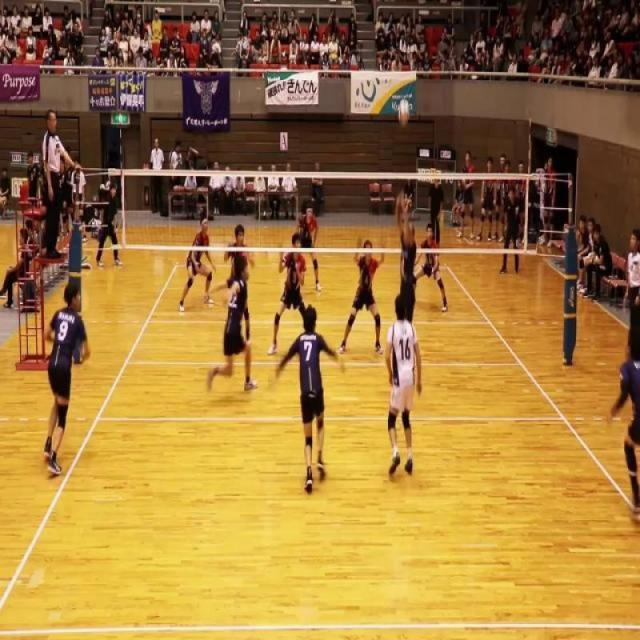volleyball: (398, 97, 409, 130)
